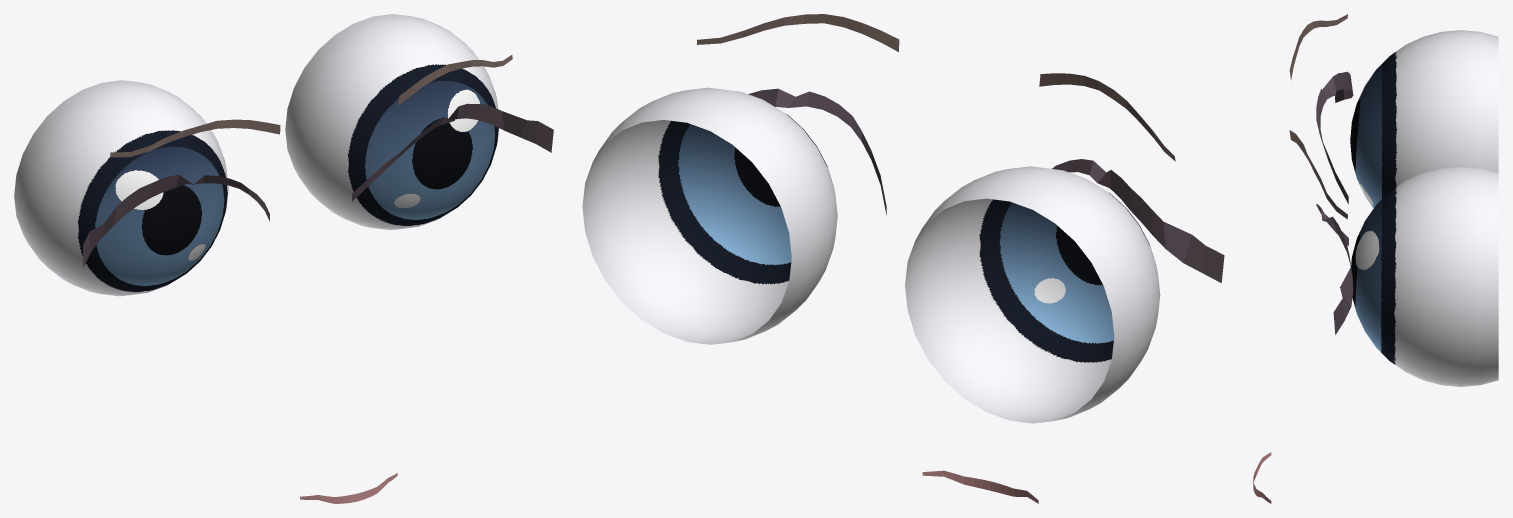
File: head_anime_female.glb
3 views of the same model, side by side, from view 1: azimuth 30°, elevation 25°; view 2: azimuth 150°, elevation 25°; view 3: azimuth 270°, elevation 25° (orthographic). The views are drawn at different scales.
Parts seen in each view (by area): view 1: AF_Eyes_Anime.001; view 2: AF_Eyes_Anime.001; view 3: AF_Eyes_Anime.001.
Boxes of the visible parts, x1,y1,x2,y2 form: AF_Eyes_Anime.001: (14,14,553,503); AF_Eyes_Anime.001: (582,14,1224,503); AF_Eyes_Anime.001: (1253,14,1498,503).
Size of the model in its own units: 0.1223 by 0.097 by 0.054.
Materials: 4 (1 with a texture image).
